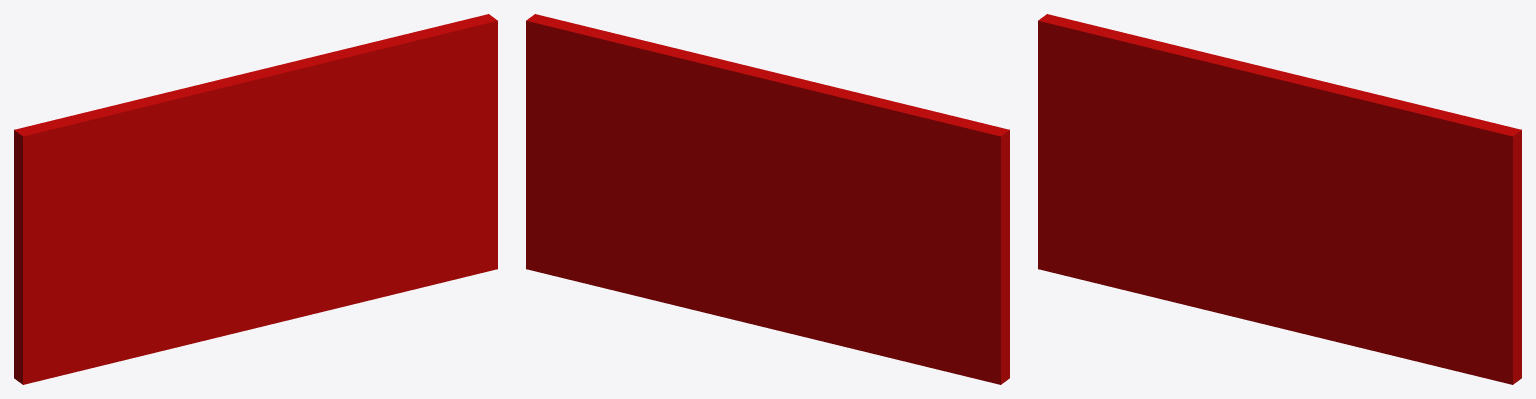
3 views of the same model, side by side, from view 1: azimuth 30°, elevation 25°; view 2: azimuth 150°, elevation 25°; view 3: azimuth 330°, elevation 25° (orthographic).
Parts seen in each view (by area): view 1: TV; view 2: TV; view 3: TV.
Boxes of the visible parts, left/top/right/bottom form: TV: left=14, top=14, right=497, bottom=384; TV: left=526, top=14, right=1009, bottom=384; TV: left=1038, top=14, right=1521, bottom=384.
Size of the model in its own units: 1.2 by 0.6 by 0.04.
